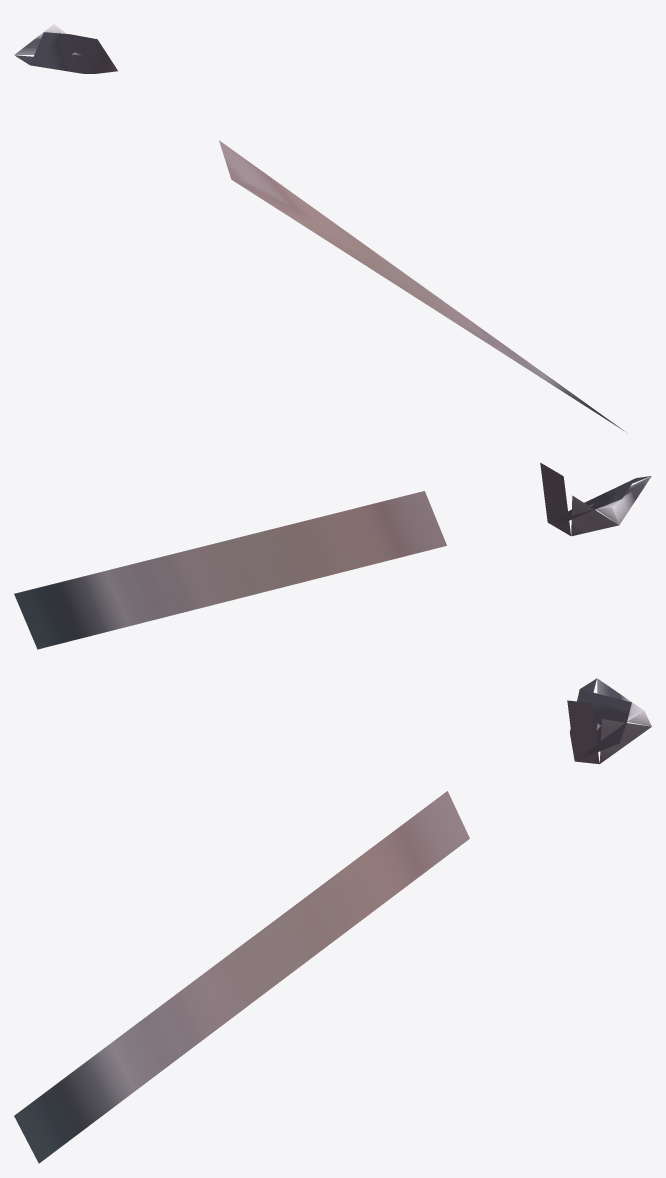
Rendered from UlRPVEYubm9kZWRhdGEucGxhbmV0b2lkPWVhcnRoLG5vZGVfZGF0YV9lcG9jaD05MTYscGF0aD0zMTQzNDE1MjYwNzM2MjcxNTU0NyxjYWNoZV92ZXJzaW9uPTY.glb.
The picture shows the model from 3 angles, top to bottom: view 1: azimuth 30°, elevation 25°; view 2: azimuth 210°, elevation 25°; view 3: azimuth 270°, elevation 25°; orthographic projection. The views are drawn at different scales.
Bounding box in the file's own units: 3.17 × 2.5 × 4.42.
Materials: 1 (1 with a texture image).
